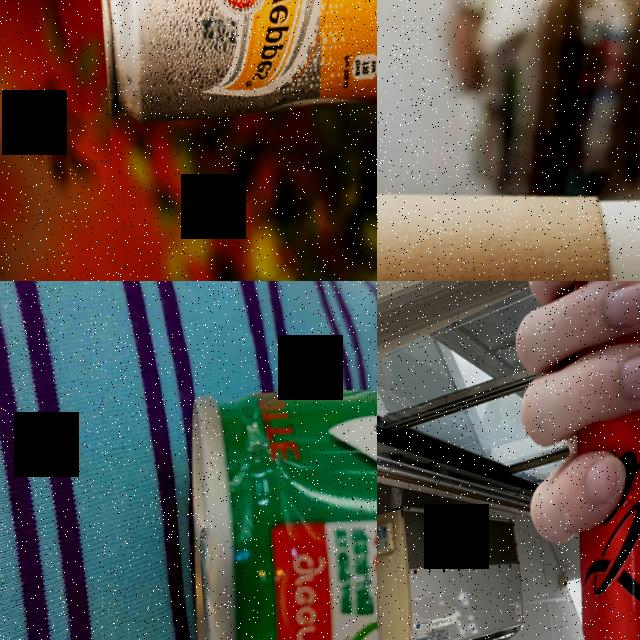can: (175, 368, 377, 640), (93, 0, 377, 127), (545, 281, 640, 640)
cup: (377, 155, 640, 281)
